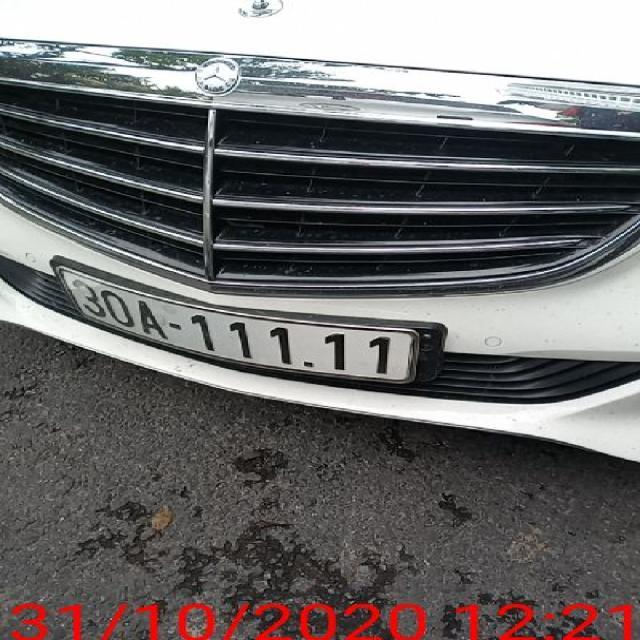bien_so_oto: (54, 264, 422, 386)
